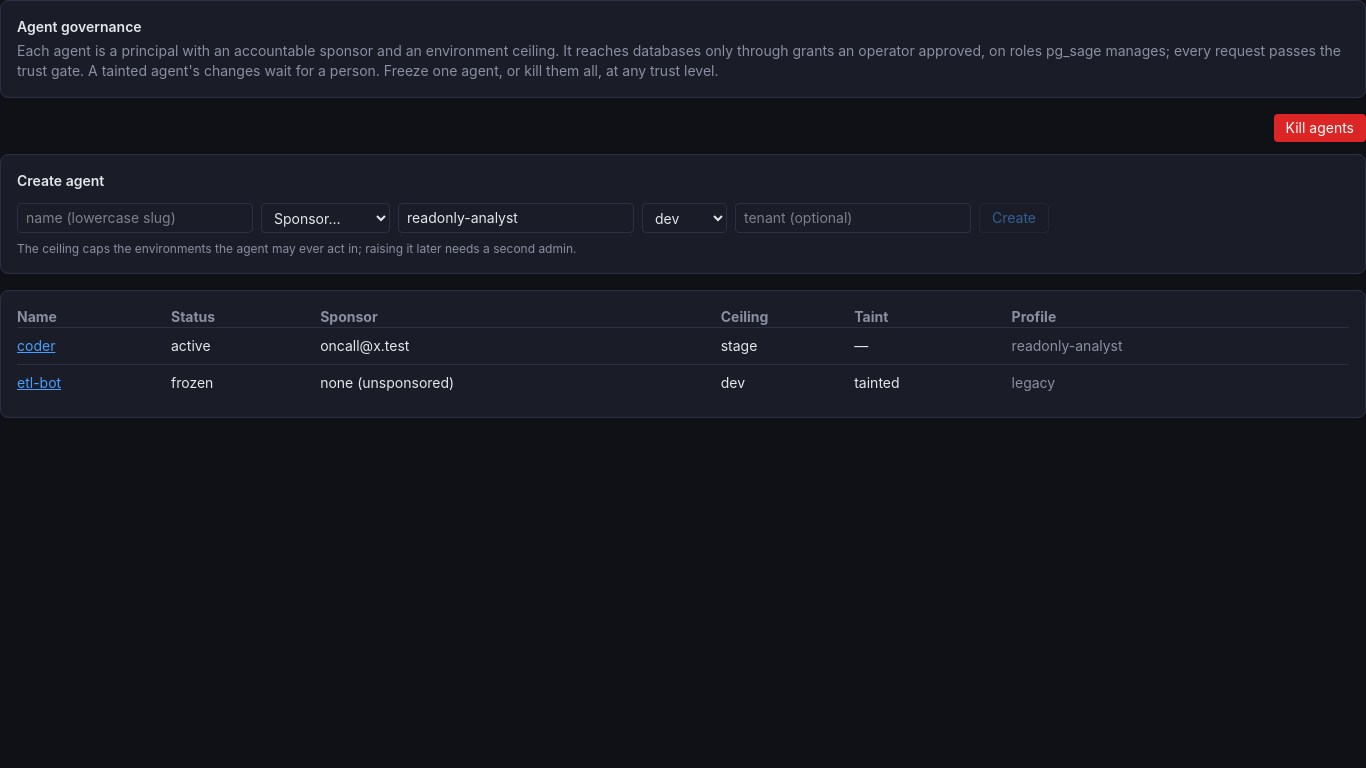
Test: AgentsPage kill switch › can be cancelled without a request
This screenshot has width=1366, height=768.
Check: the table with test id "agents-table" is shown, box [17, 307, 1349, 401]
Click the button with test id "agents-kill-open" at [1320, 128], box [1274, 114, 1365, 142]
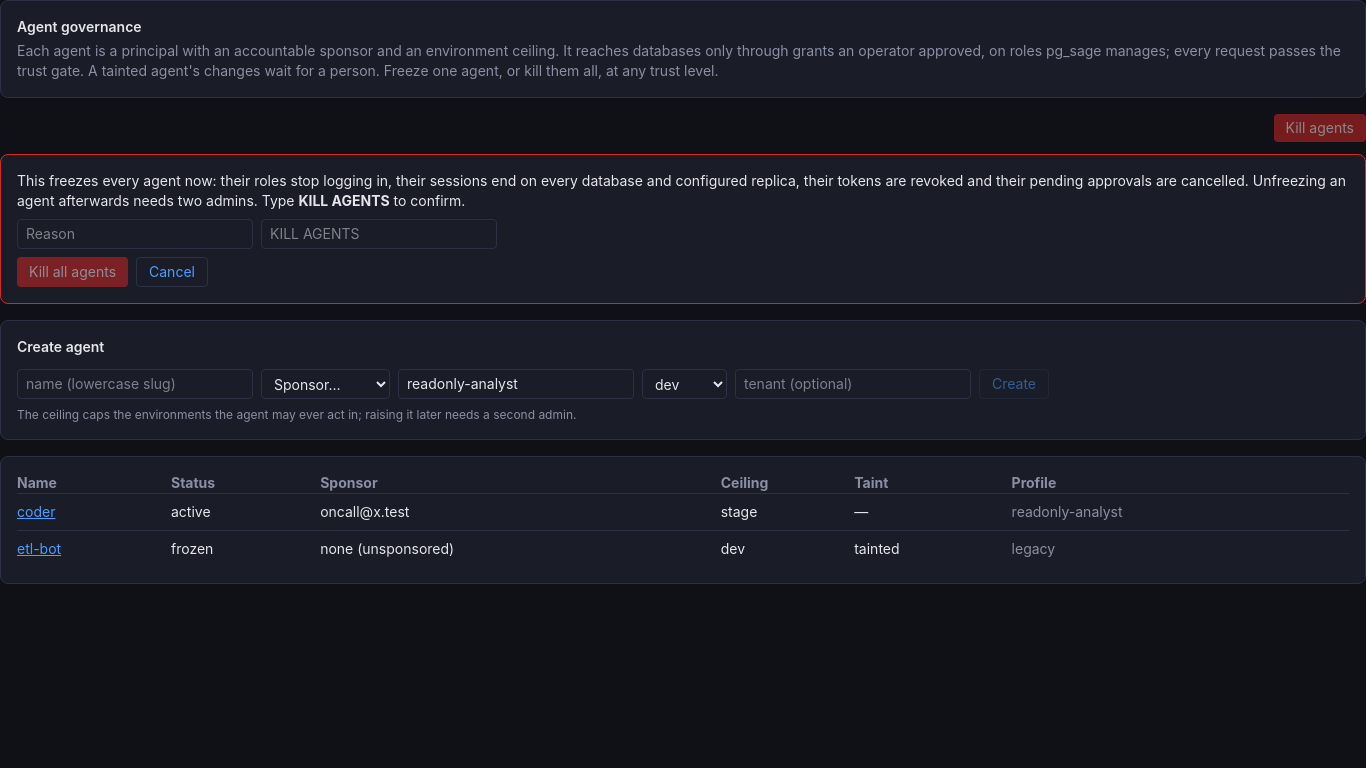
Click the button with test id "agents-kill-cancel" at [172, 272], box [136, 257, 208, 287]
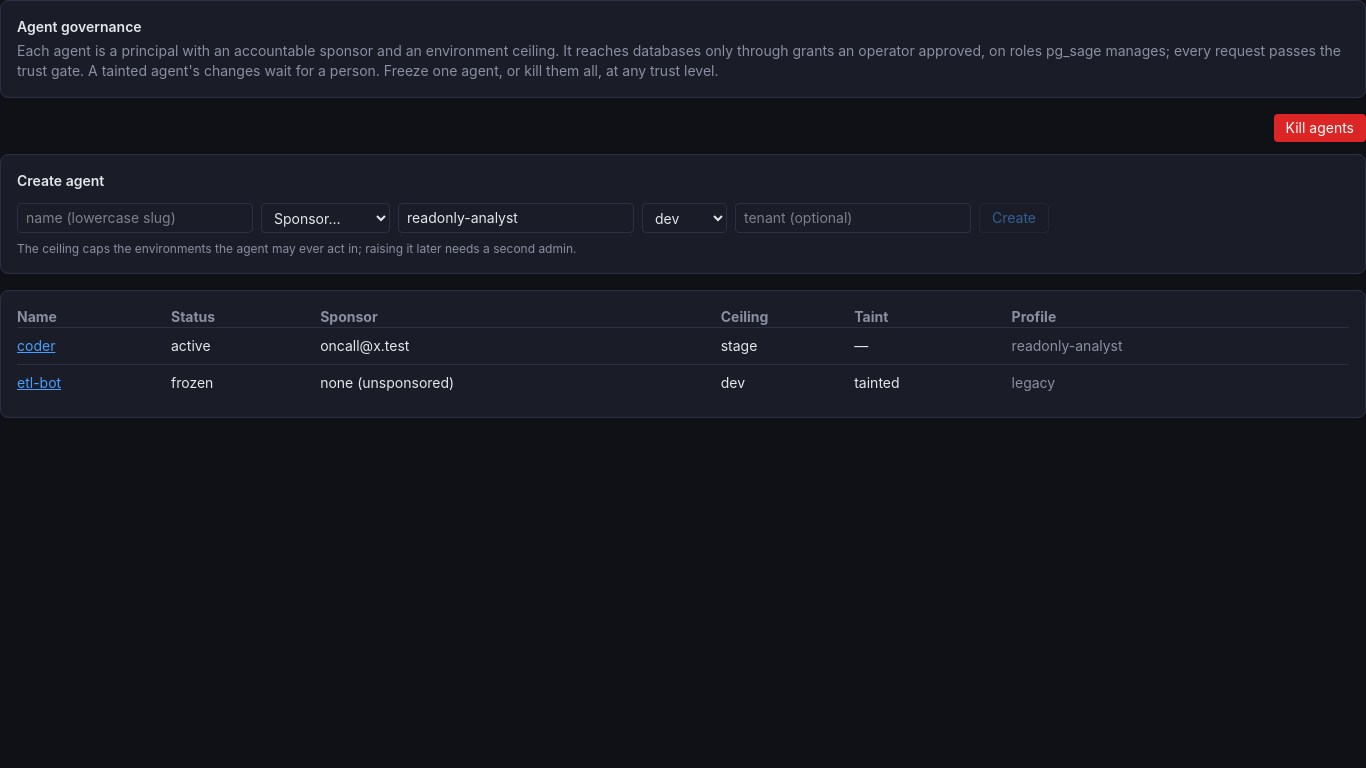
Check: the dialog with test id "agents-kill-dialog" is gone
